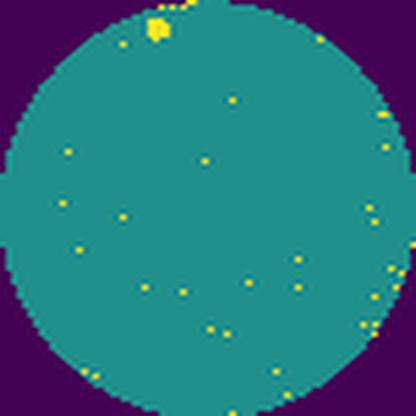Loc: (149, 16, 173, 43)
